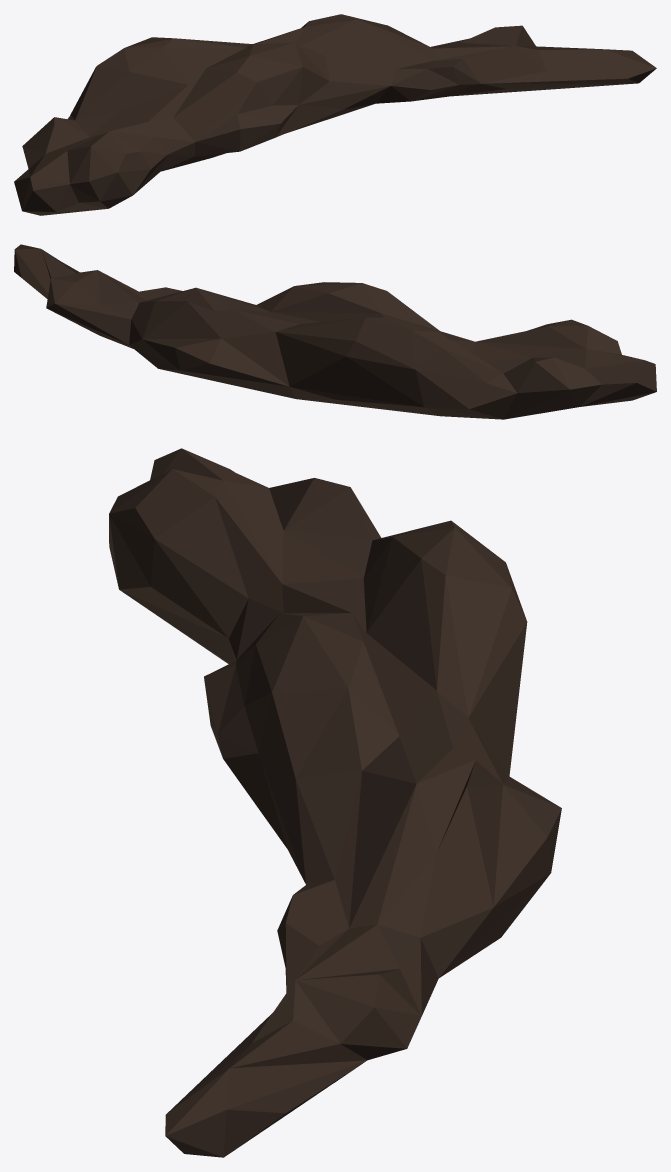
The model's file is synty-prop-cloud-02.gltf.
3 renders of one model, top to bottom at view 1: azimuth 30°, elevation 25°; view 2: azimuth 150°, elevation 25°; view 3: azimuth 270°, elevation 25°, orthographic. The views are drawn at different scales.
Visible parts, largest first — view 1: SM_Prop_Cloud_02; view 2: SM_Prop_Cloud_02; view 3: SM_Prop_Cloud_02.
Part boxes in pixels (<box>): SM_Prop_Cloud_02: <box>14,14,656,215</box>; SM_Prop_Cloud_02: <box>14,244,656,419</box>; SM_Prop_Cloud_02: <box>109,448,561,1157</box>.
Size of the model in its own units: 8.31 by 1.28 by 2.58.
1 material, 1 textured.
